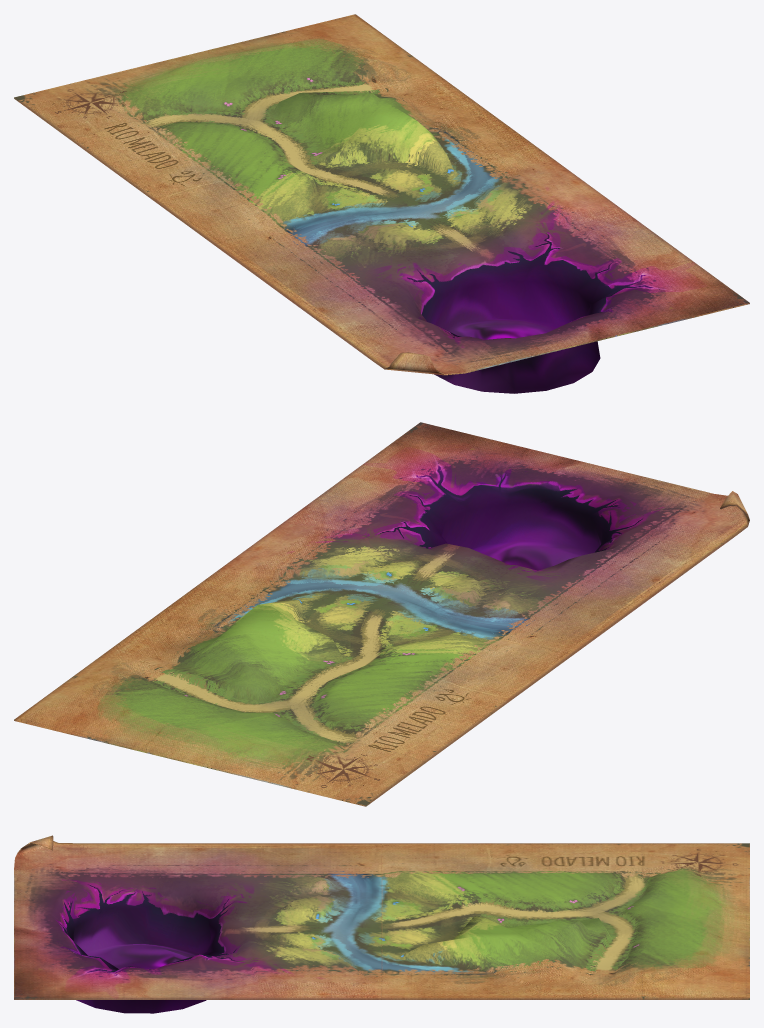
File: SM_Fase_B.fbx
3 renders of one model, top to bottom at view 1: azimuth 30°, elevation 25°; view 2: azimuth 150°, elevation 25°; view 3: azimuth 270°, elevation 25°, orthographic. The views are drawn at different scales.
Visible parts, largest first — view 1: SM_Fase_B; view 2: SM_Fase_B; view 3: SM_Fase_B.
Boxes of the visible parts, x1,y1,x2,y2 form: SM_Fase_B: (14,14,749,393); SM_Fase_B: (14,422,749,806); SM_Fase_B: (14,835,749,1013).
Size of the model in its own units: 26134 by 6642 by 52261.
